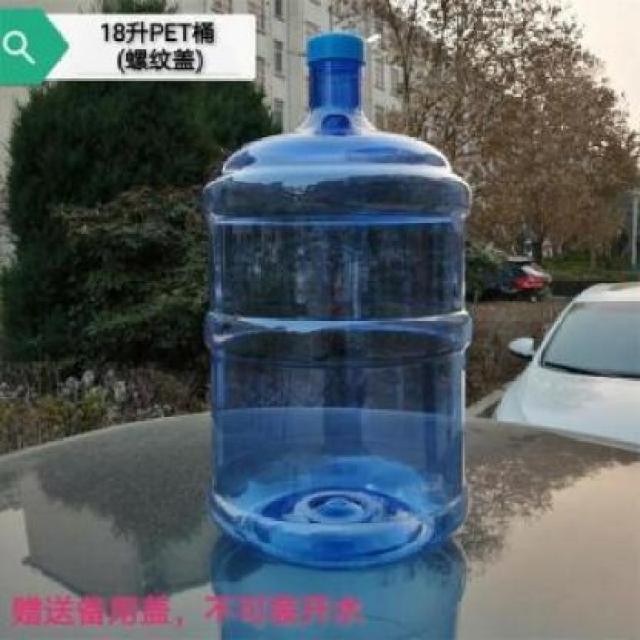coolerbottle: (202, 26, 478, 577)
